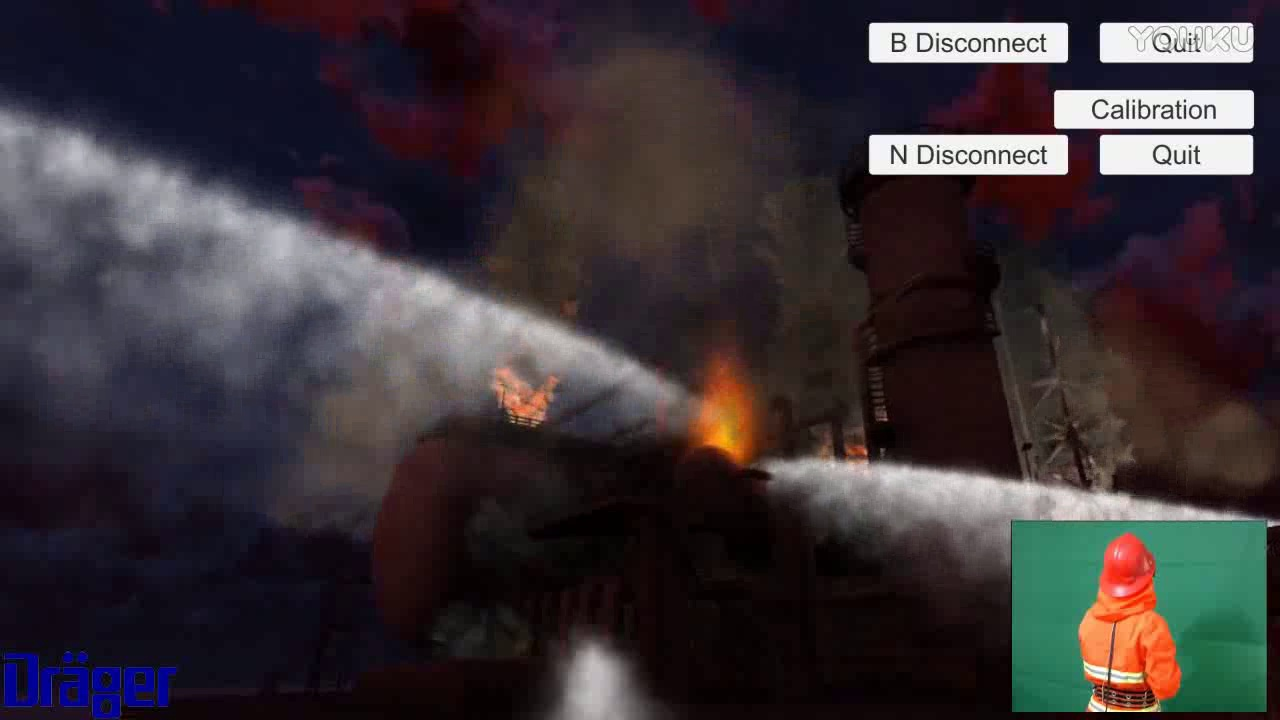fire: (698, 337, 762, 467)
